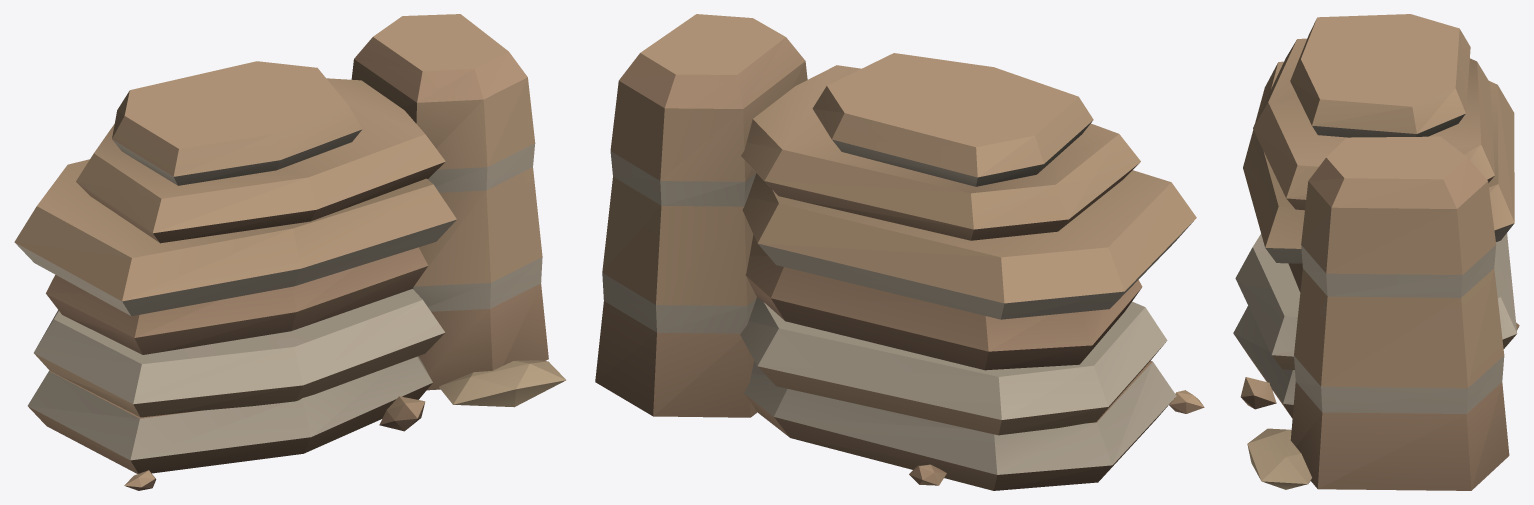
Rendered from outcrop.lod1.glb.
3 views of the same model, side by side, from view 1: azimuth 30°, elevation 25°; view 2: azimuth 150°, elevation 25°; view 3: azimuth 270°, elevation 25° (orthographic). The views are drawn at different scales.
Size of the model in its own units: 5.62 by 3.58 by 2.98.
